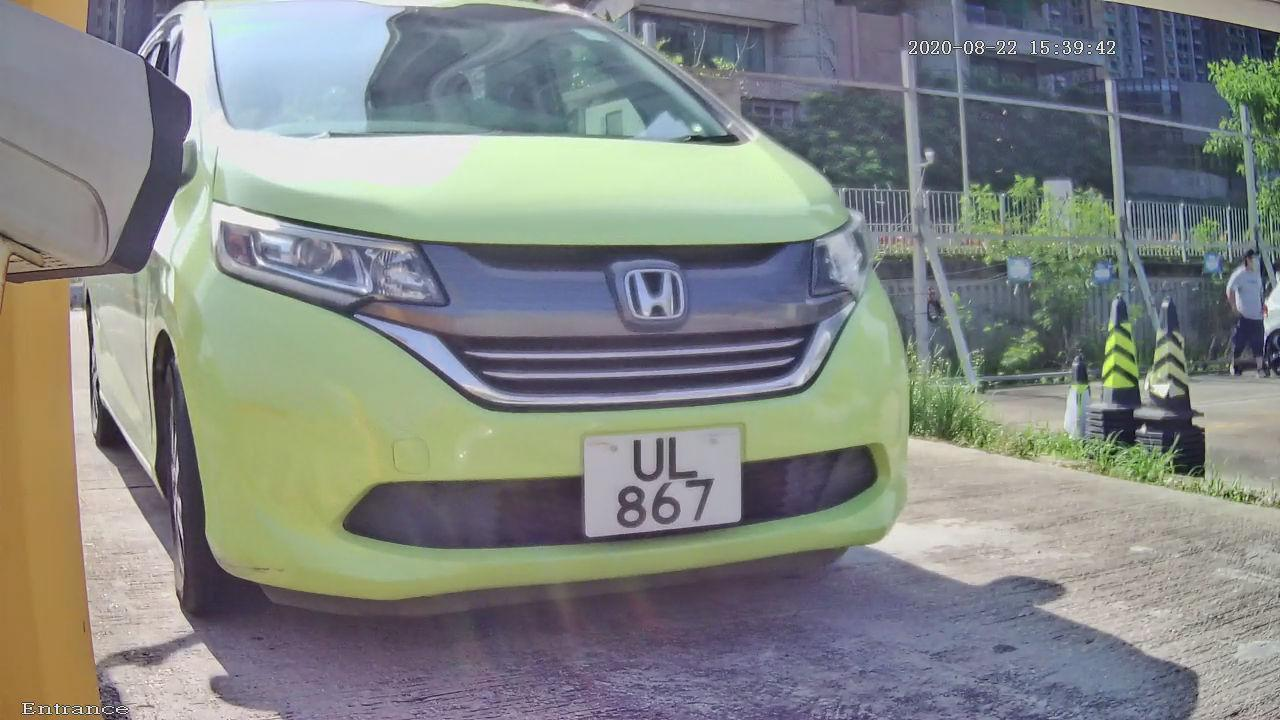Car: (23, 1, 995, 672)
License Plate: (566, 409, 761, 550)
